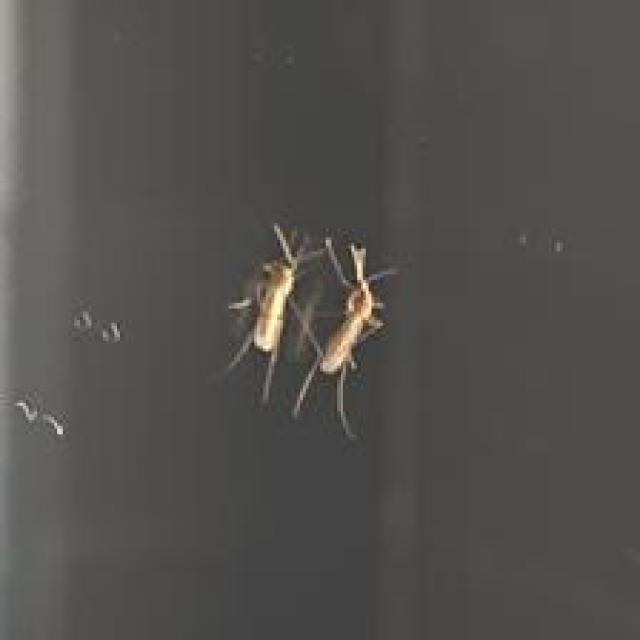Culex: (222, 222, 398, 442)
